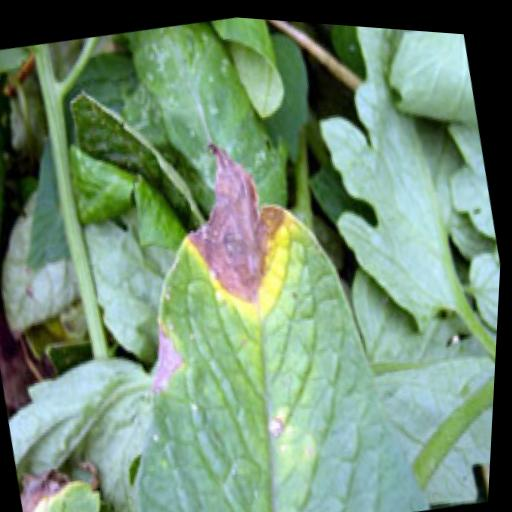Early Blight: (48, 90, 452, 512)
